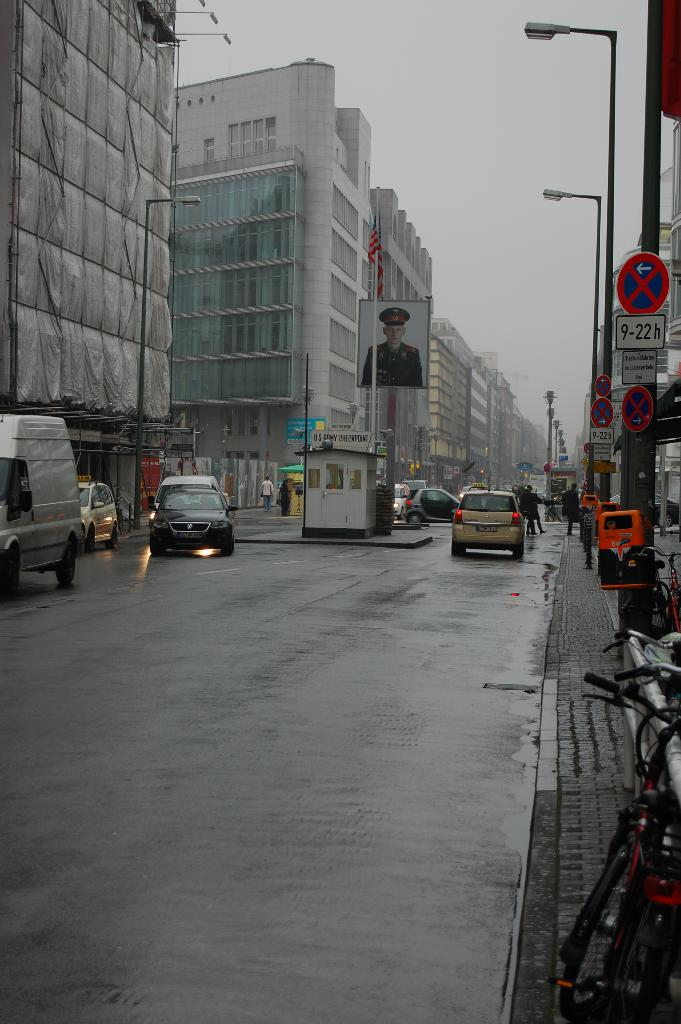mobil: (146, 482, 234, 562), (444, 488, 529, 567)
